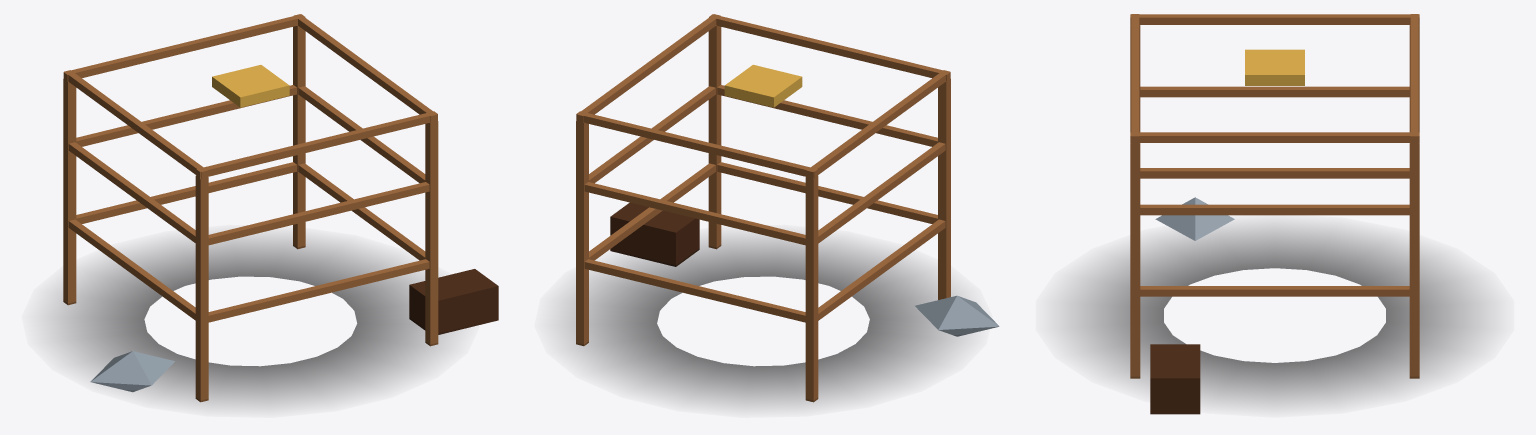
The model's file is scaffold.glb.
3 views of the same model, side by side, from view 1: azimuth 30°, elevation 25°; view 2: azimuth 150°, elevation 25°; view 3: azimuth 270°, elevation 25° (orthographic). The views are drawn at different scales.
Parts seen in each view (by area): view 1: scaffold; view 2: scaffold; view 3: scaffold.
Part boxes in pixels (left/top/right/bottom): scaffold: left=50, top=14, right=498, bottom=405; scaffold: left=563, top=14, right=999, bottom=405; scaffold: left=1065, top=14, right=1484, bottom=414.
Size of the model in its own units: 5 by 2.86 by 4.95.
